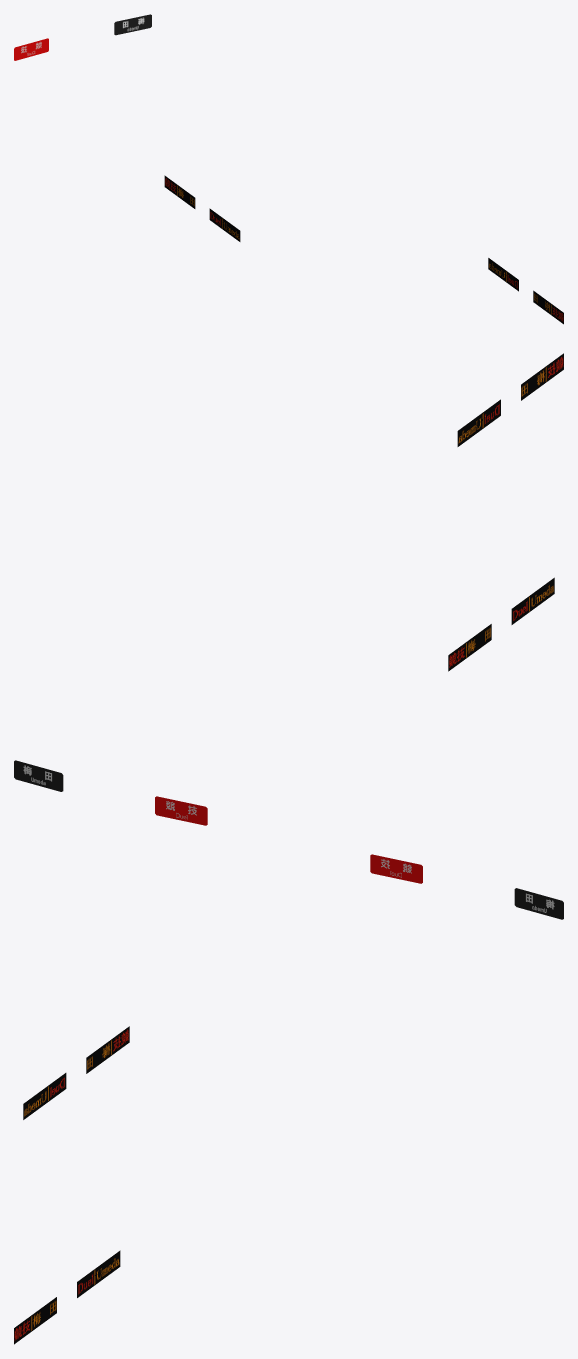
Rendered from H8200_2_UMEDA.glb.
The picture shows the model from 3 angles, top to bottom: view 1: azimuth 30°, elevation 25°; view 2: azimuth 150°, elevation 25°; view 3: azimuth 330°, elevation 25°; orthographic projection. The views are drawn at different scales.
Parts seen in each view (by area): view 1: FRAME_ROOT; view 2: FRAME_ROOT; view 3: FRAME_ROOT.
Boxes of the visible parts, x1,y1,x2,y2 form: FRAME_ROOT: (14, 14, 563, 324); FRAME_ROOT: (14, 353, 563, 825); FRAME_ROOT: (14, 854, 563, 1344).
Size of the model in its own units: 6.16 by 0.7017 by 27.14.
Materials: 4 (4 with a texture image).
